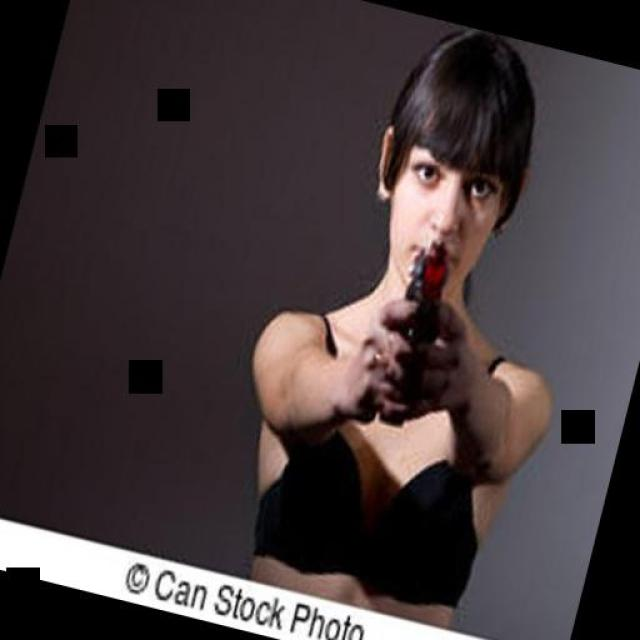gun: (373, 230, 458, 410)
